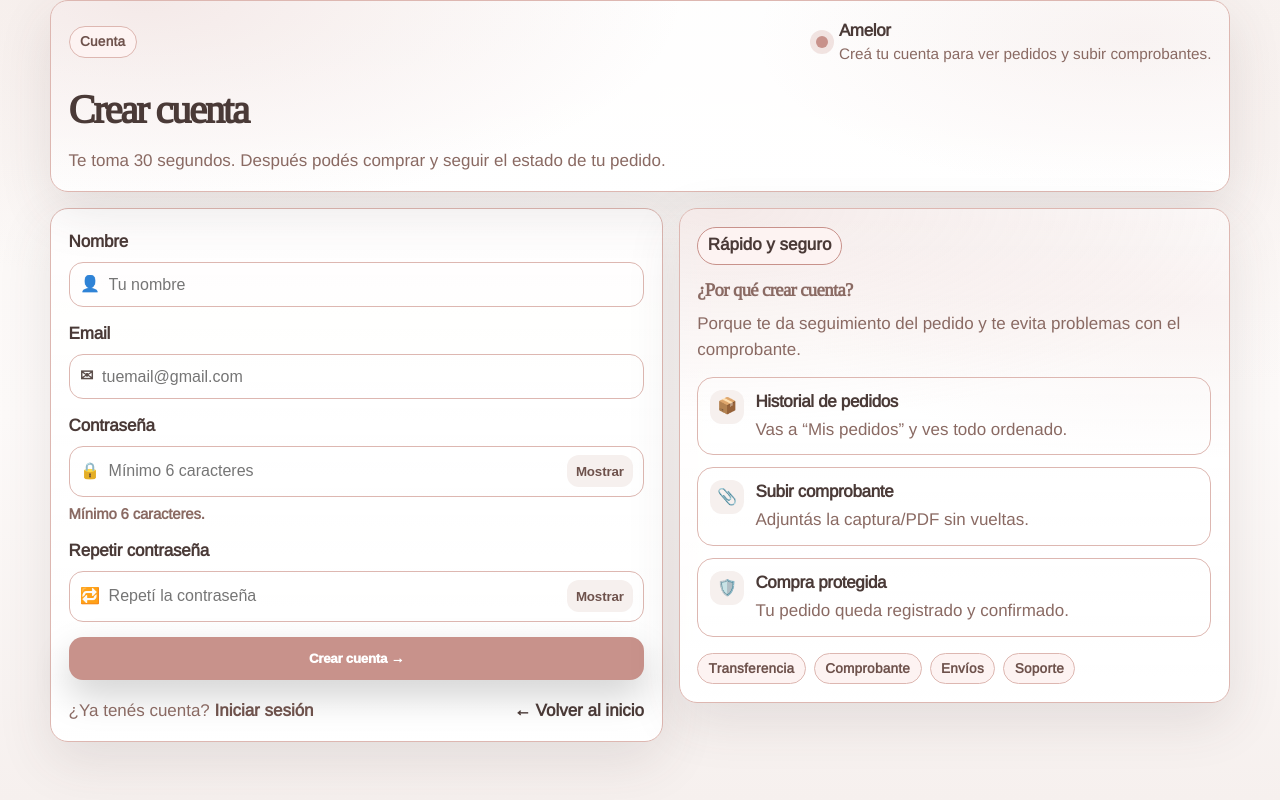
Test: Register › 409 → mensaje propio aunque el servidor mande otro
The image size is (1280, 800).
Type "Ana" into the field labelled "Nombre" at (371, 284), box [109,272,633,298]
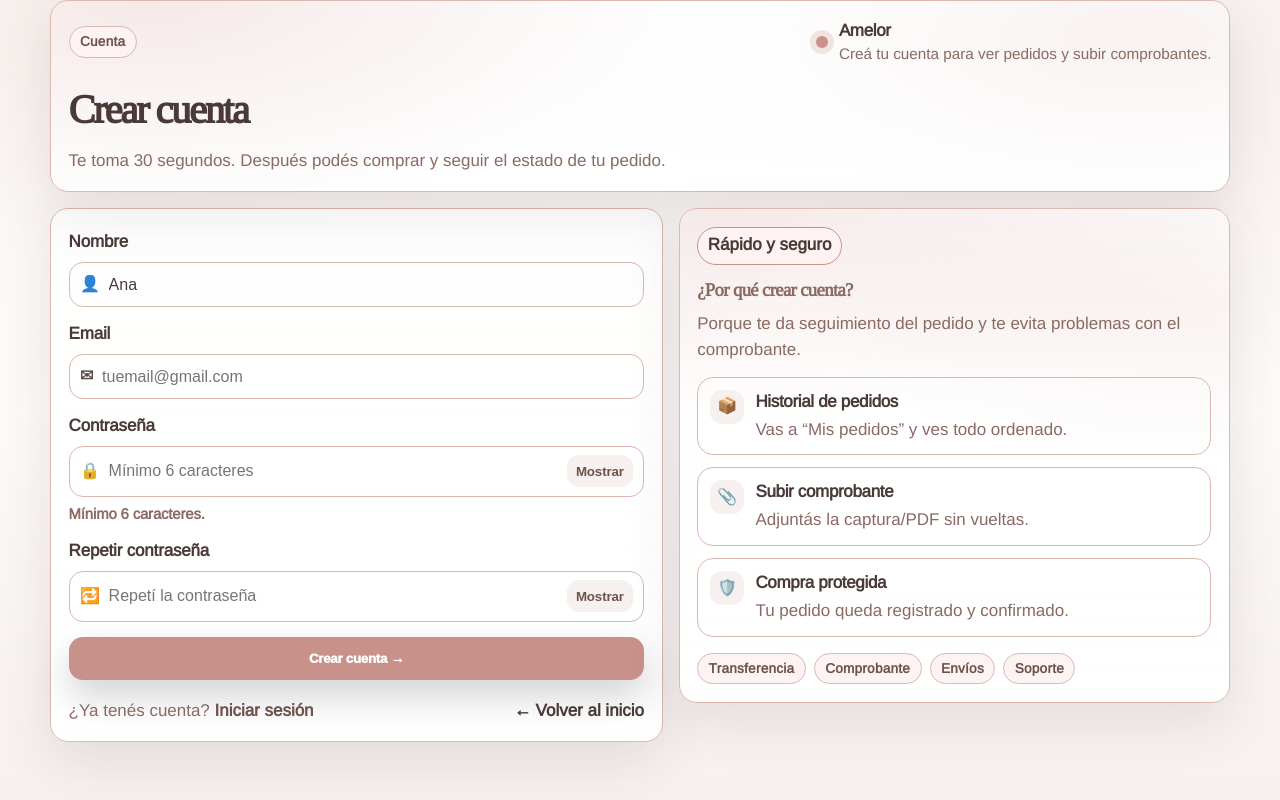
Type "ana@mail.com" into the field labelled "Email" at (367, 376), box [102,364,633,390]
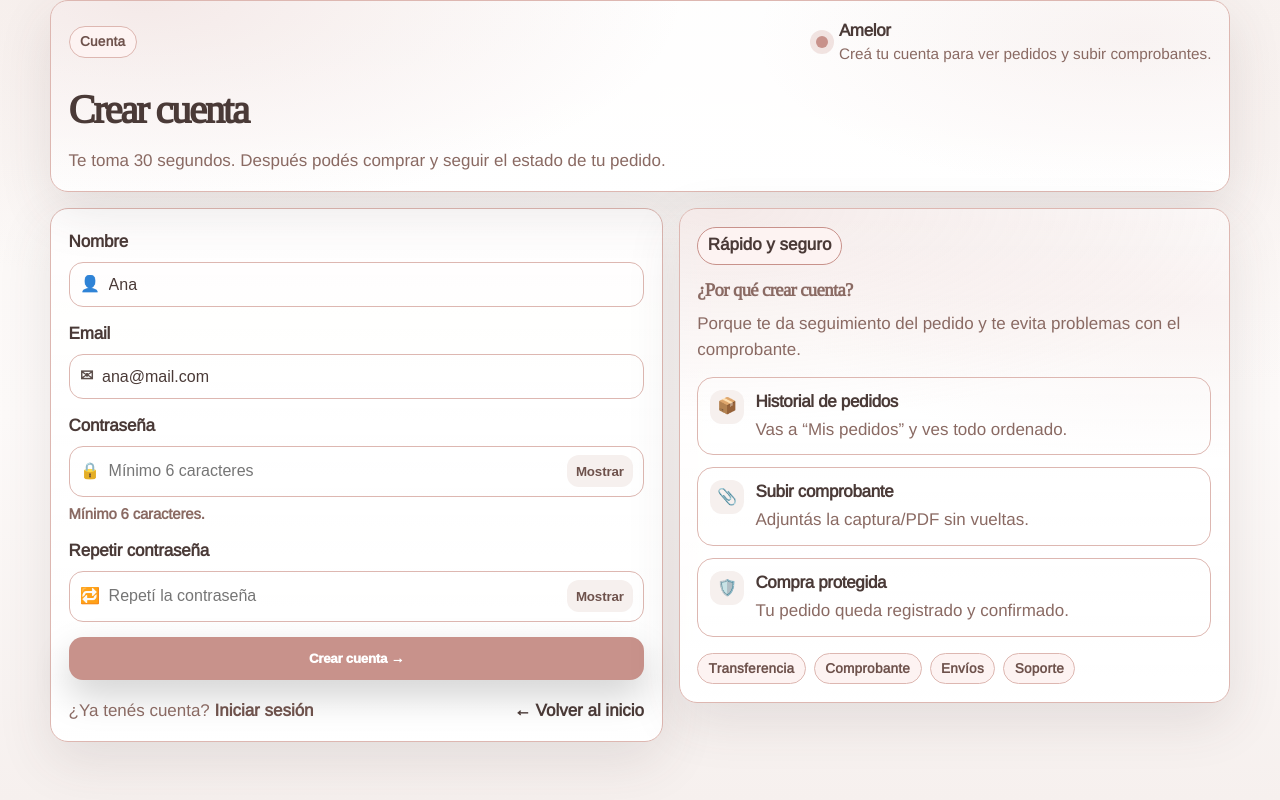
Type "secreto1" into the password field labelled "Contraseña" at (333, 472), box [109,458,558,484]
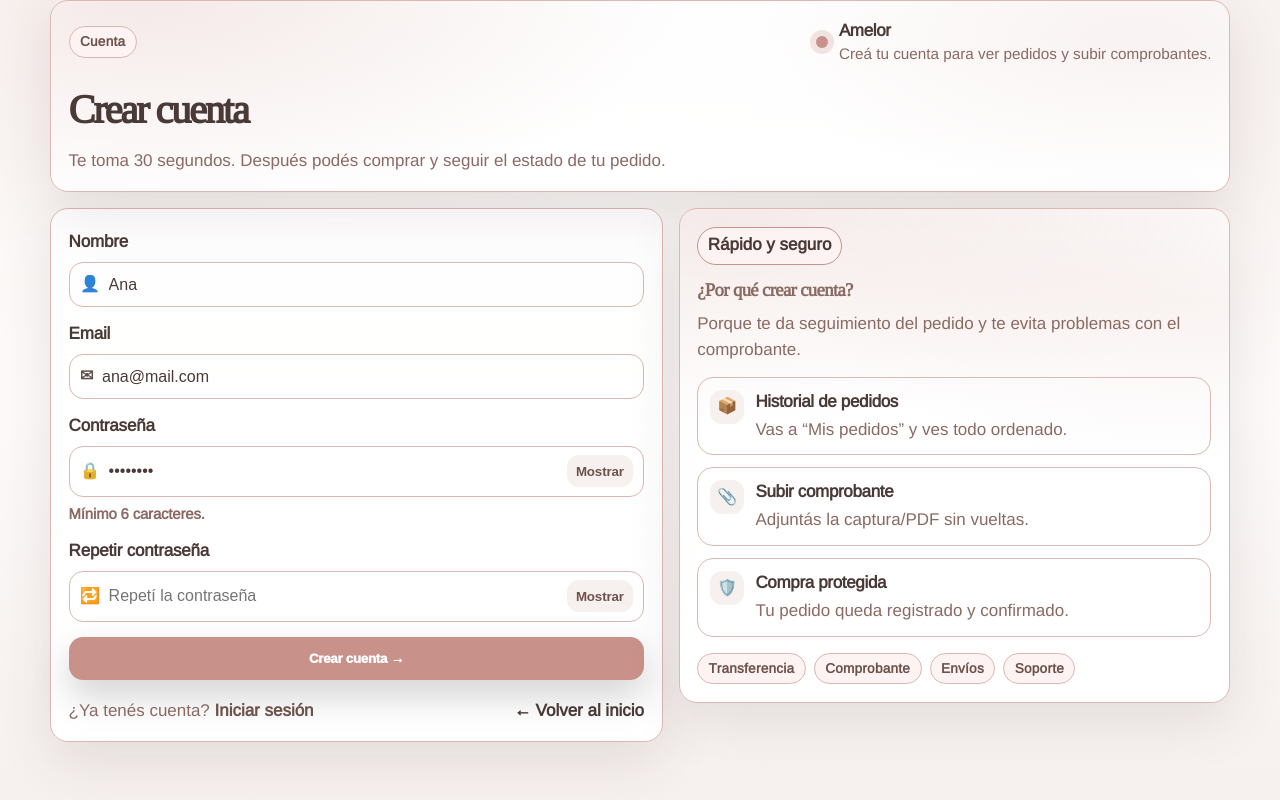
Type "secreto1" into the password field labelled "Repetir contraseña" at (333, 596), box [109,583,558,609]
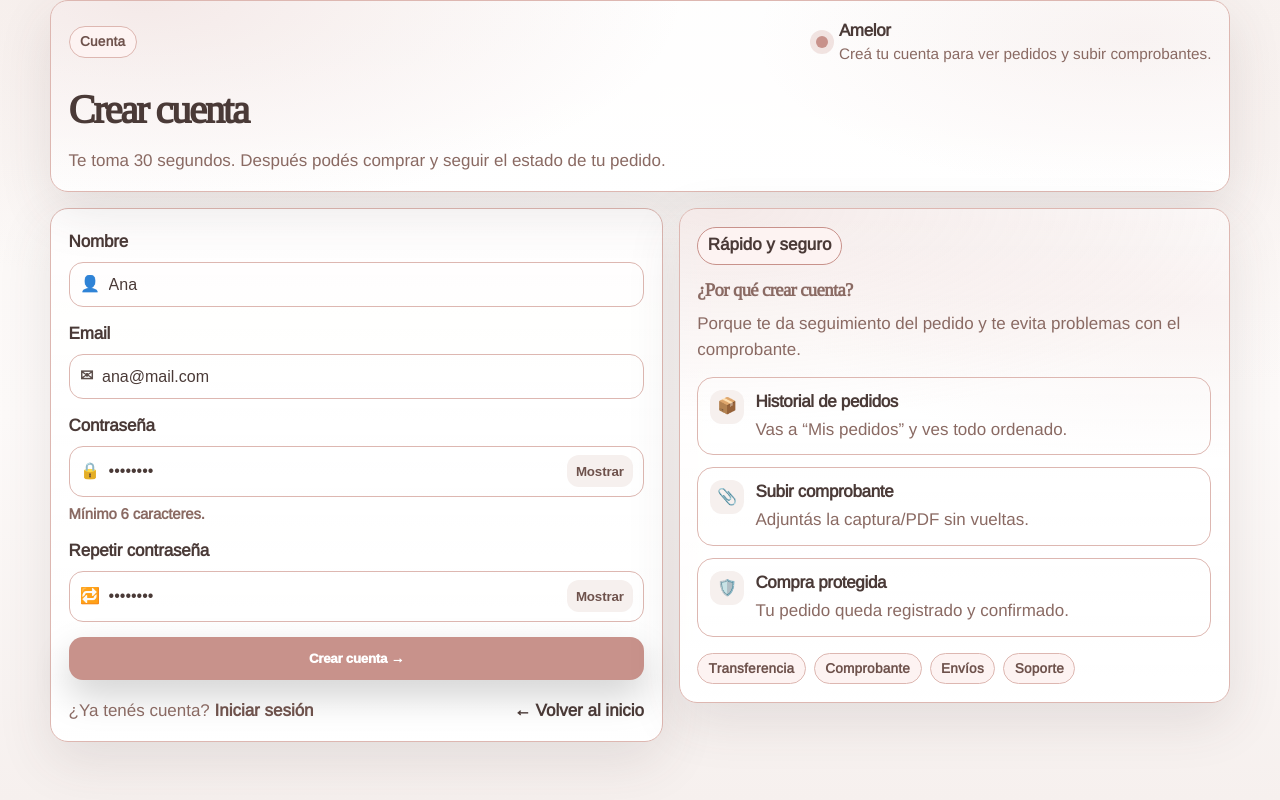
Submit the form, box [69,230,644,680]
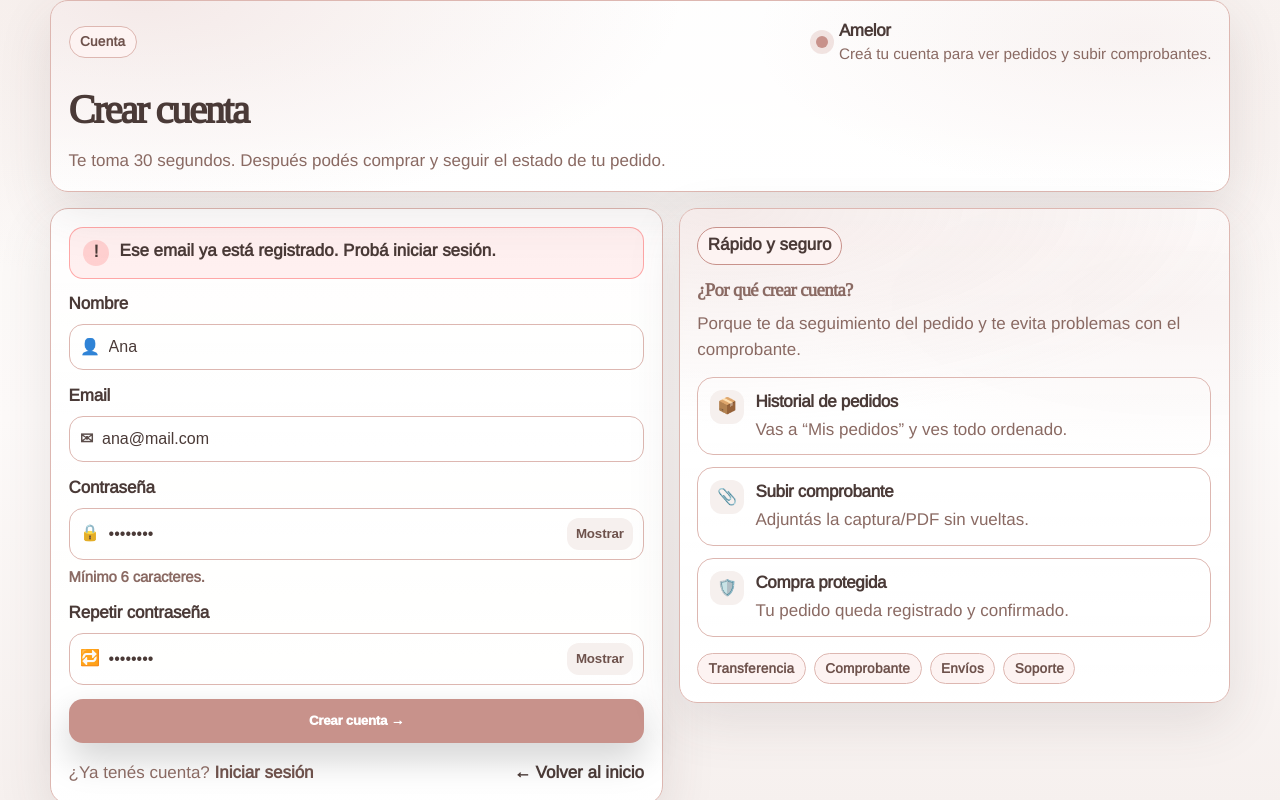
Expected: the message shows "Ese email ya está registrado", [120,241,496,260]
